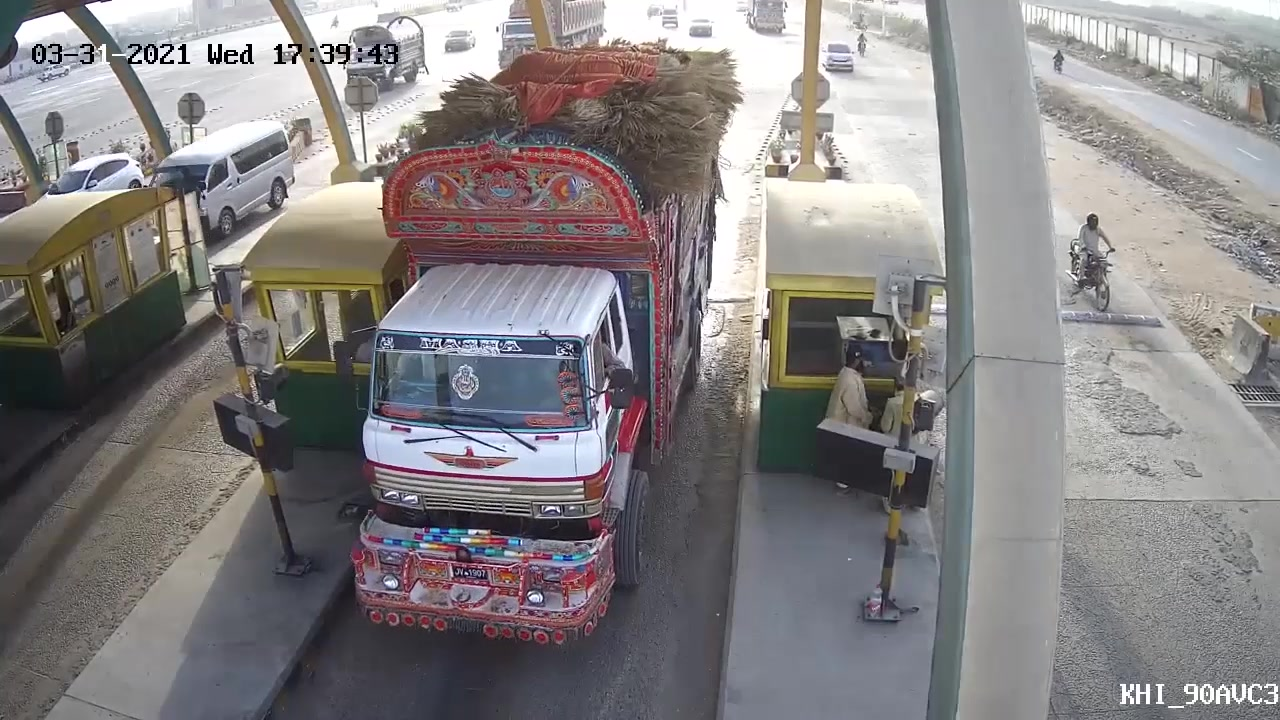F5: (316, 39, 738, 653)
